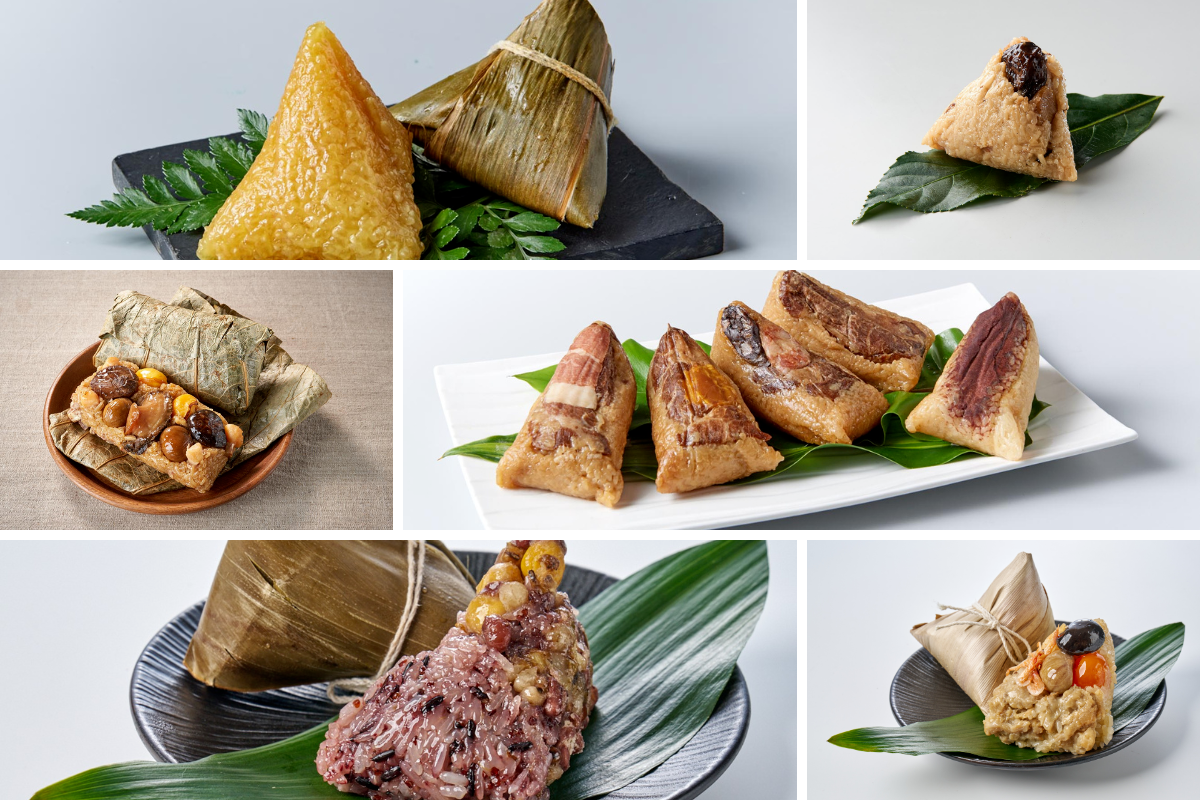zongzi: (316, 540, 597, 799), (646, 271, 932, 492), (198, 23, 422, 258), (390, 0, 615, 227), (183, 540, 475, 691), (497, 323, 634, 505), (71, 357, 241, 488), (905, 294, 1038, 459), (912, 553, 1056, 705), (94, 291, 272, 413), (925, 39, 1076, 180), (985, 620, 1115, 754)
